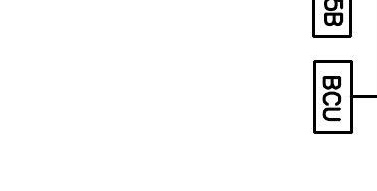BCU: (312, 59, 354, 135)
